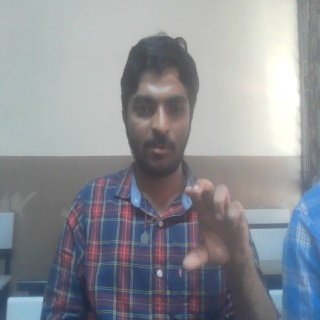Face: (118, 33, 201, 179)
No: (177, 176, 254, 279)
